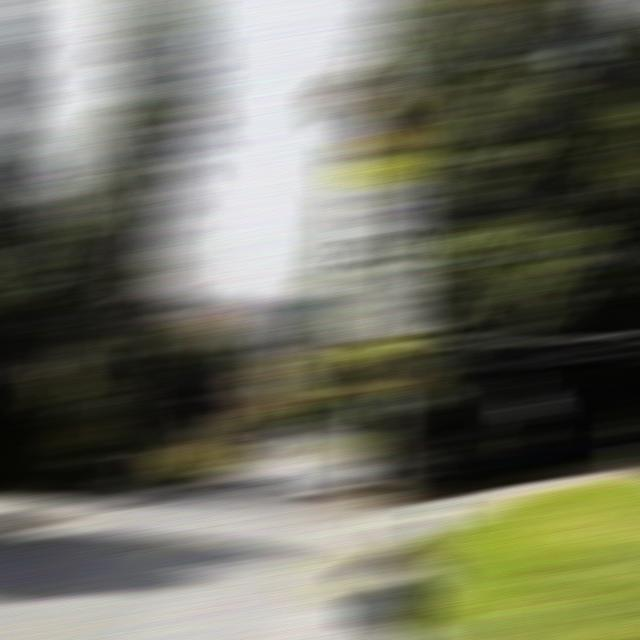speedLimit20: (342, 189, 418, 269)
